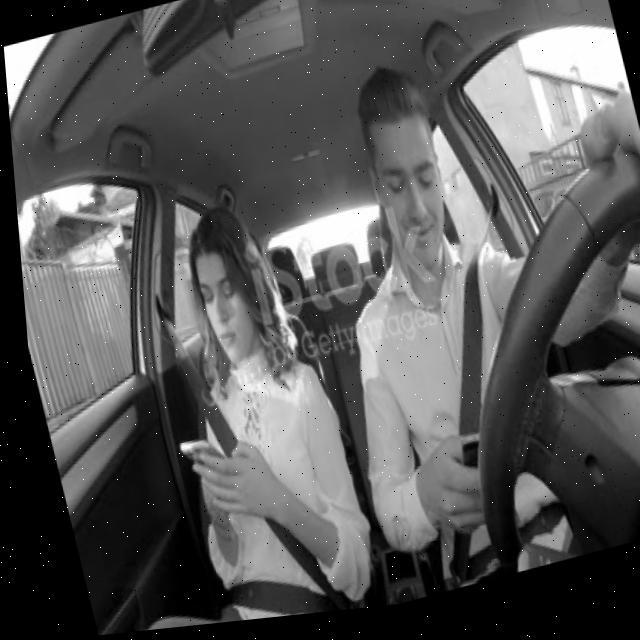PhoneCall: (166, 432, 226, 506)
